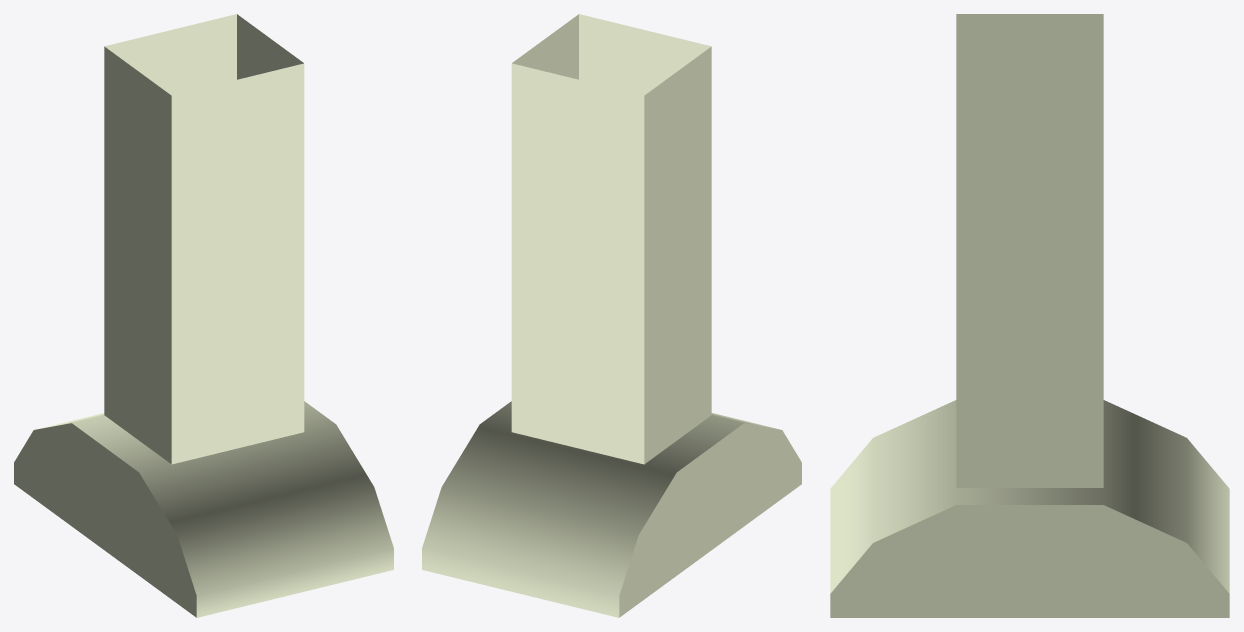
File: hotl_kitchen_hood.FBX
The picture shows the model from 3 angles, left to right: view 1: azimuth 30°, elevation 25°; view 2: azimuth 150°, elevation 25°; view 3: azimuth 270°, elevation 25°; orthographic projection. The views are drawn at different scales.
Parts seen in each view (by area): view 1: kitchen_hood; view 2: kitchen_hood; view 3: kitchen_hood.
Boxes of the visible parts, x1,y1,x2,y2 form: kitchen_hood: (14, 14, 393, 617); kitchen_hood: (422, 14, 801, 617); kitchen_hood: (830, 14, 1229, 617).
Size of the model in its own units: 0.8302 by 1.9 by 1.33.
